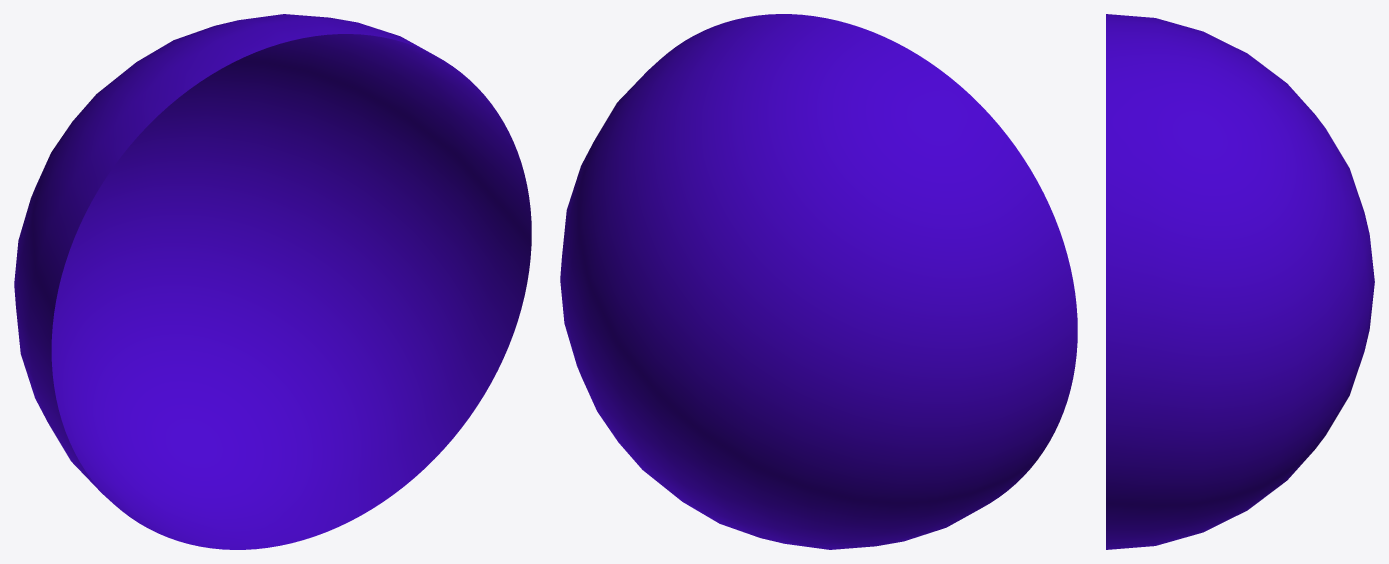
The model's file is mun.fbx.
The picture shows the model from 3 angles, left to right: view 1: azimuth 30°, elevation 25°; view 2: azimuth 150°, elevation 25°; view 3: azimuth 270°, elevation 25°; orthographic projection. The views are drawn at different scales.
Parts seen in each view (by area): view 1: Cube; view 2: Cube; view 3: Cube.
Part boxes in pixels (bbox=[...]): Cube: bbox=[14, 14, 531, 549]; Cube: bbox=[560, 14, 1077, 549]; Cube: bbox=[1106, 14, 1374, 549].
Size of the model in its own units: 345 by 345 by 173.
